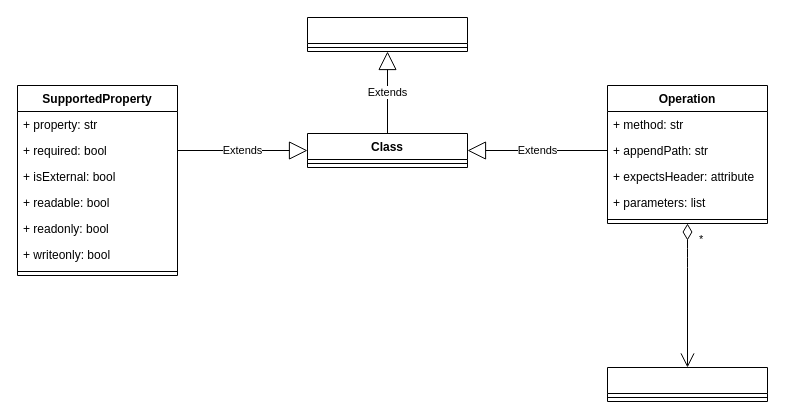
Image size: 785x419. Some labels were removed from this diagram. Here are the shapes that lost their labels. From the top down, the centre of each, then its label:
At (387,34): "Resource".
At (687,384): "Parameter".
